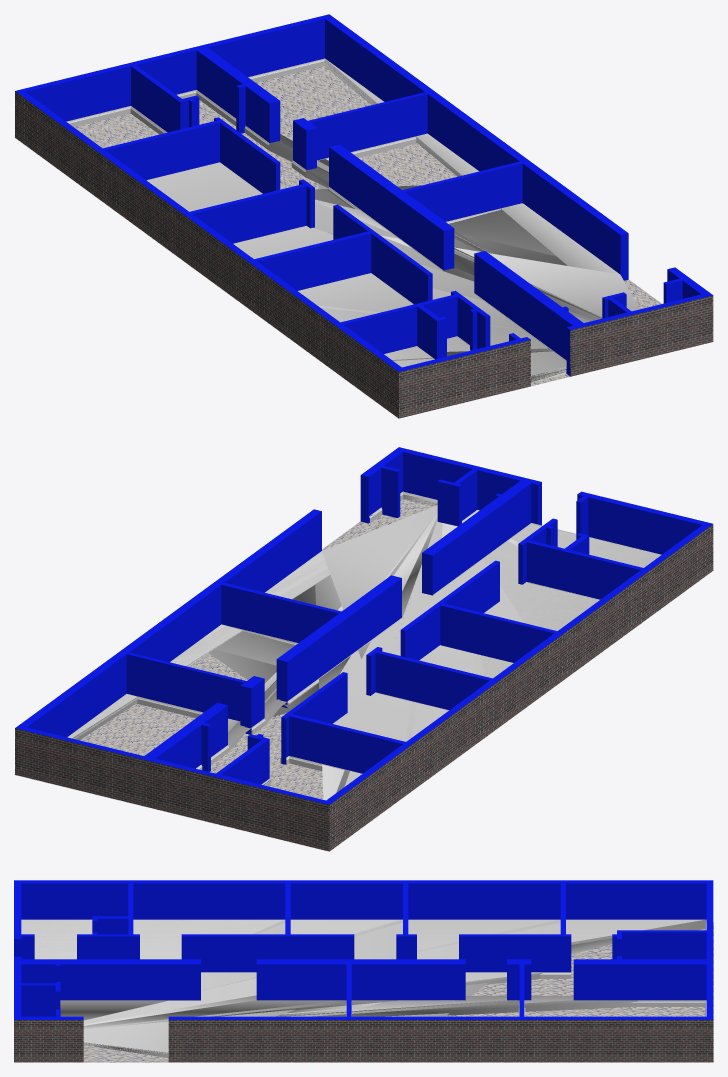
Rendered from newBuilding1.FBX.
3 renders of one model, top to bottom at view 1: azimuth 30°, elevation 25°; view 2: azimuth 150°, elevation 25°; view 3: azimuth 270°, elevation 25°, orthographic. The views are drawn at different scales.
Visible parts, largest first — view 1: wallsDown, Plane003; view 2: wallsDown, Plane003; view 3: wallsDown, Plane003.
Boxes of the visible parts, box(x1,y1,x2,y2) form: wallsDown: box(15, 14, 713, 418); Plane003: box(14, 66, 713, 418); wallsDown: box(15, 447, 713, 851); Plane003: box(14, 499, 713, 851); wallsDown: box(14, 880, 713, 1062); Plane003: box(14, 922, 713, 1062).
Bounding box in the file's own units: 7.22 × 1.02 × 15.24.
Materials: 4 (2 with a texture image).
